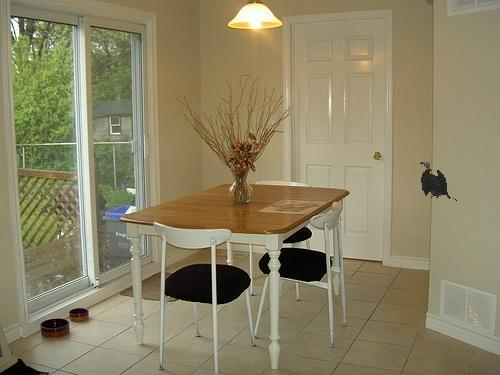tampered: (421, 163, 475, 201)
